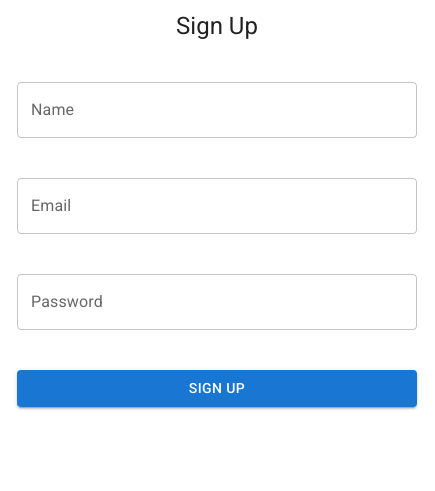
SignUpForm › display error message if signup returns error
Step 1. Type "testuser" into the field labelled "Name" → (217, 110), box [17,82,417,138]
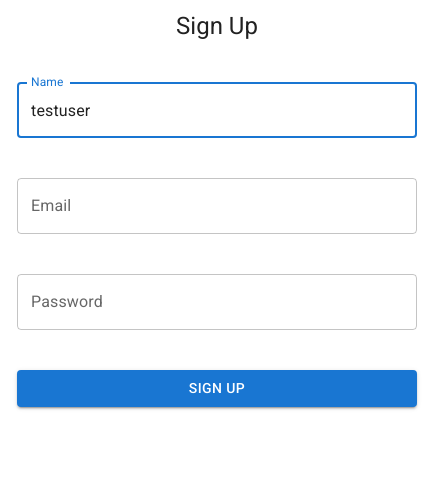
Step 2. Type "test@example.com" into the field labelled "Email" → (217, 206), box [17,178,417,234]
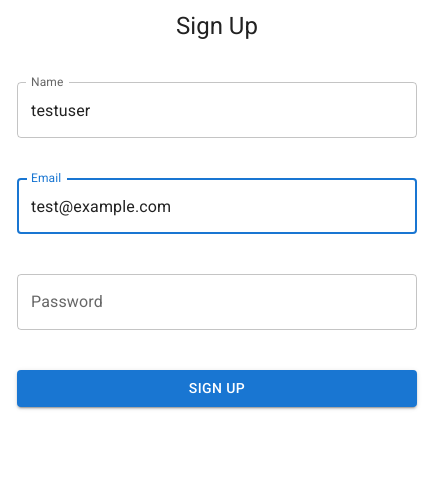
Step 3. Type "Password123!" into the password field labelled "Password" → (217, 302), box [17,274,417,330]
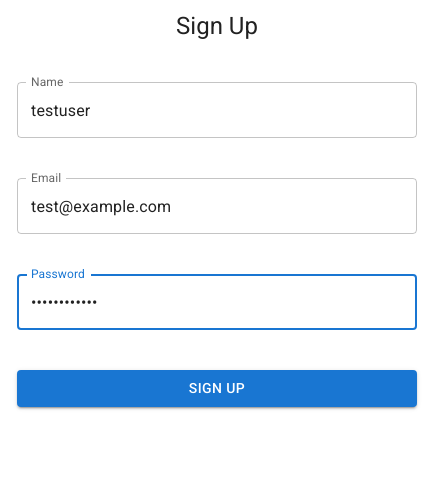
Step 4. Click the button "Sign Up" → (217, 389), box [17,370,417,407]
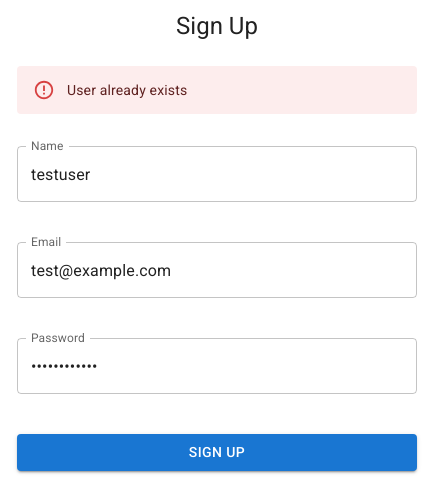
Check: the text "User already exists" is shown, box [67,82,187,98]
